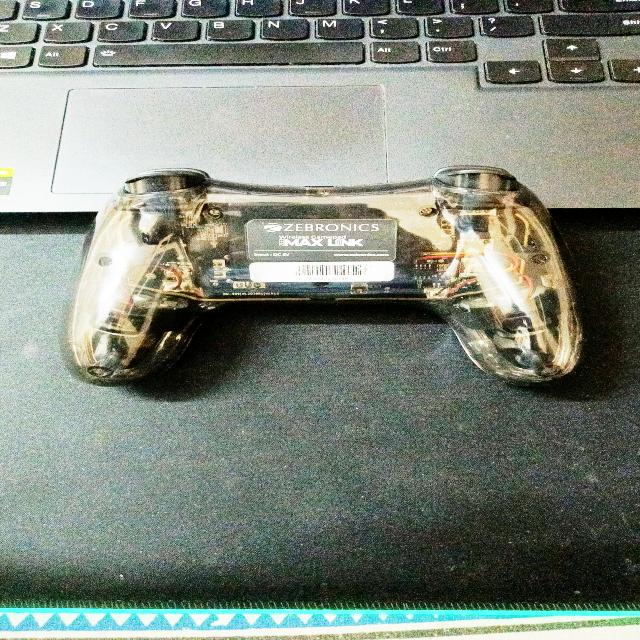gamepad: (67, 164, 584, 386)
